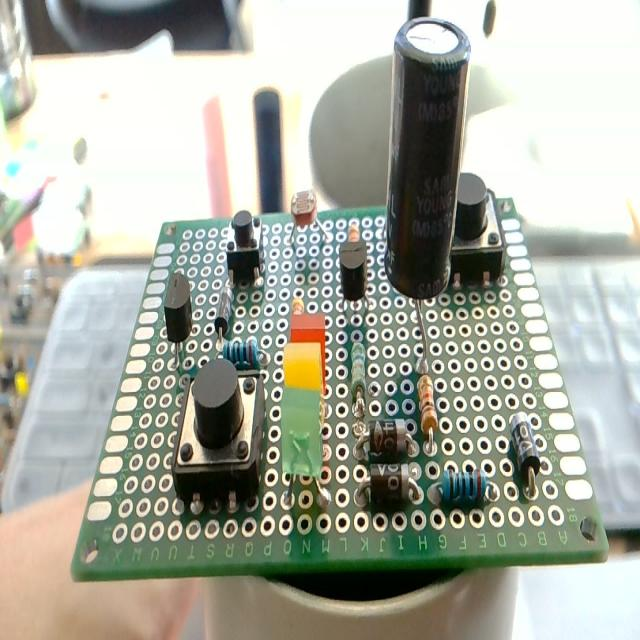Electrolytic capacitor: (381, 15, 473, 374)
cds: (285, 189, 331, 247)
diode: (504, 406, 546, 501), (352, 459, 428, 511), (348, 417, 422, 462), (210, 272, 240, 341)
led: (278, 385, 327, 511), (277, 340, 327, 391), (282, 313, 331, 345)
resistor: (429, 458, 502, 511), (344, 330, 376, 420), (416, 368, 441, 456), (215, 336, 270, 369)
switch: (173, 358, 270, 505), (453, 169, 518, 297), (221, 206, 271, 288)
transistor: (154, 264, 195, 374), (332, 238, 379, 323)
